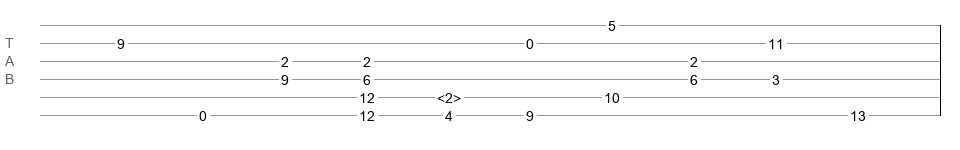0: (199, 108, 207, 118), (526, 36, 534, 46)
10: (604, 90, 620, 100)
11: (768, 36, 784, 46)
12: (359, 108, 375, 118), (359, 90, 375, 100)
13: (850, 108, 866, 118)
2: (281, 54, 289, 64), (363, 54, 371, 64), (690, 54, 698, 64)
3: (772, 72, 780, 82)
4: (445, 108, 453, 118)
5: (608, 18, 616, 28)
6: (363, 72, 371, 82), (690, 72, 698, 82)
9: (117, 36, 125, 46), (281, 72, 289, 82), (526, 108, 534, 118)
harmonic: (437, 90, 461, 100)
